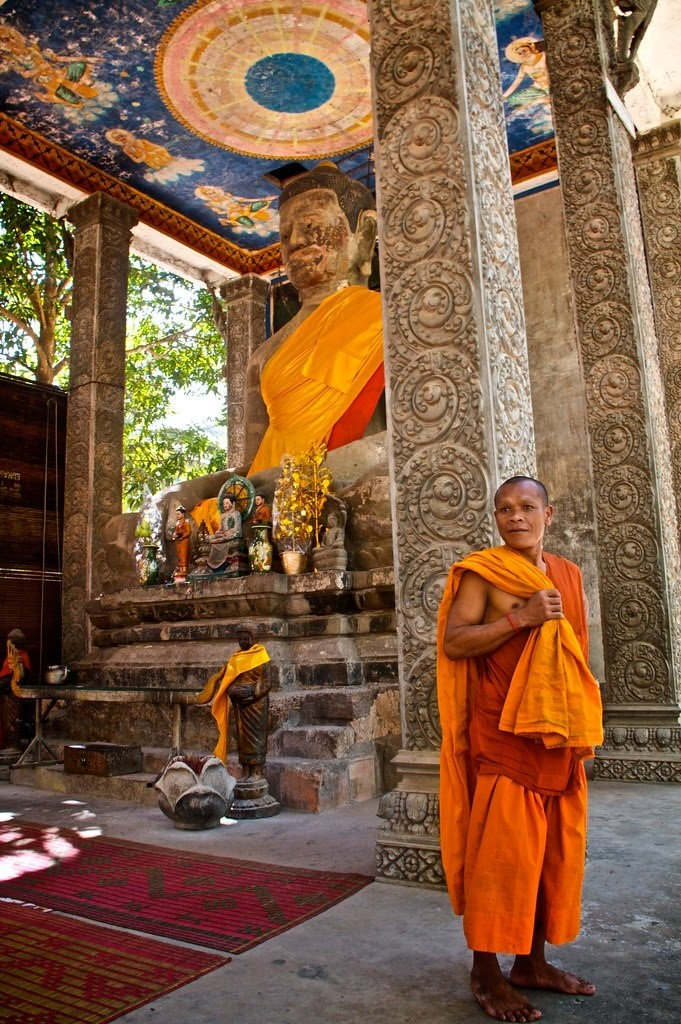face_no_mask: (494, 472, 552, 548)
